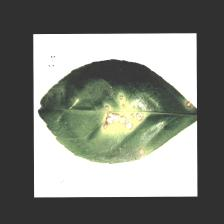canker: (90, 83, 154, 135)
